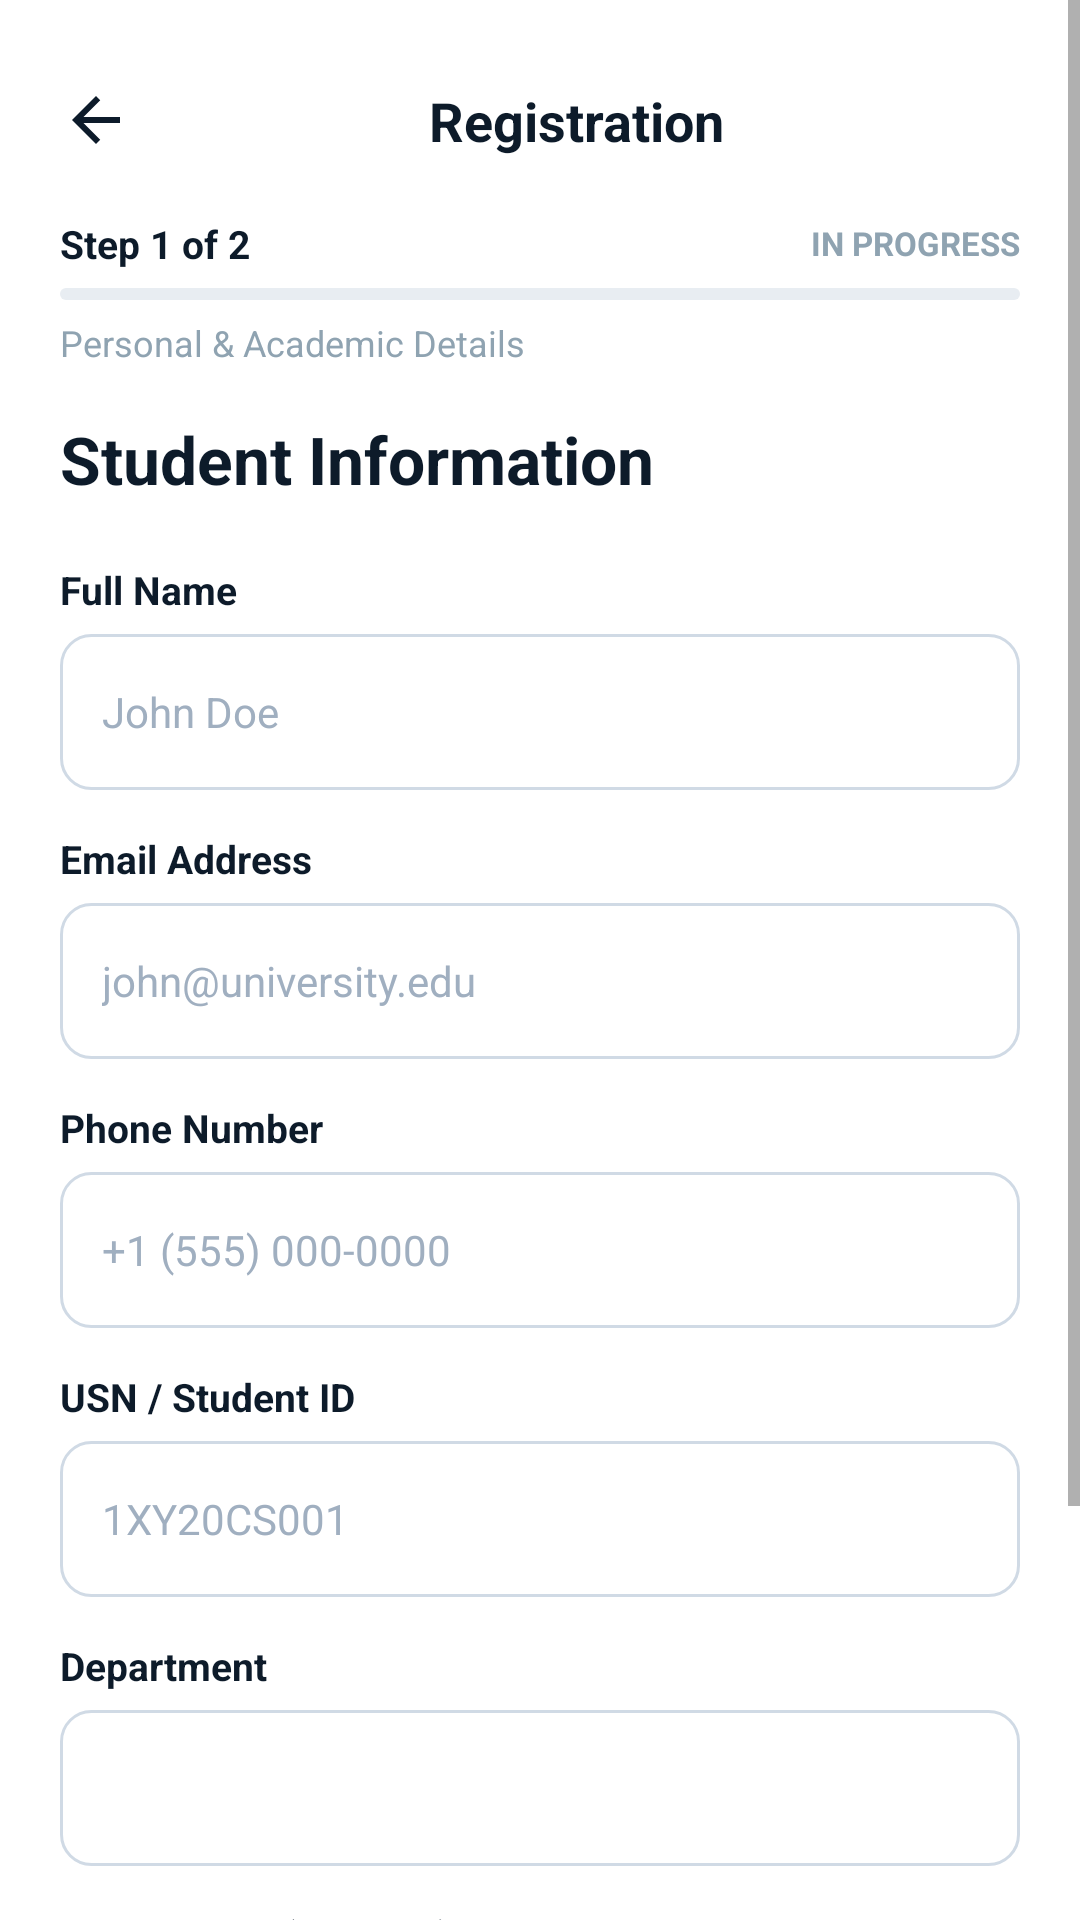

Where icons sit on this 1080w x 1920h app screen, as (x1, y1, x2, y2):
arrow back: (72, 96, 120, 144)
